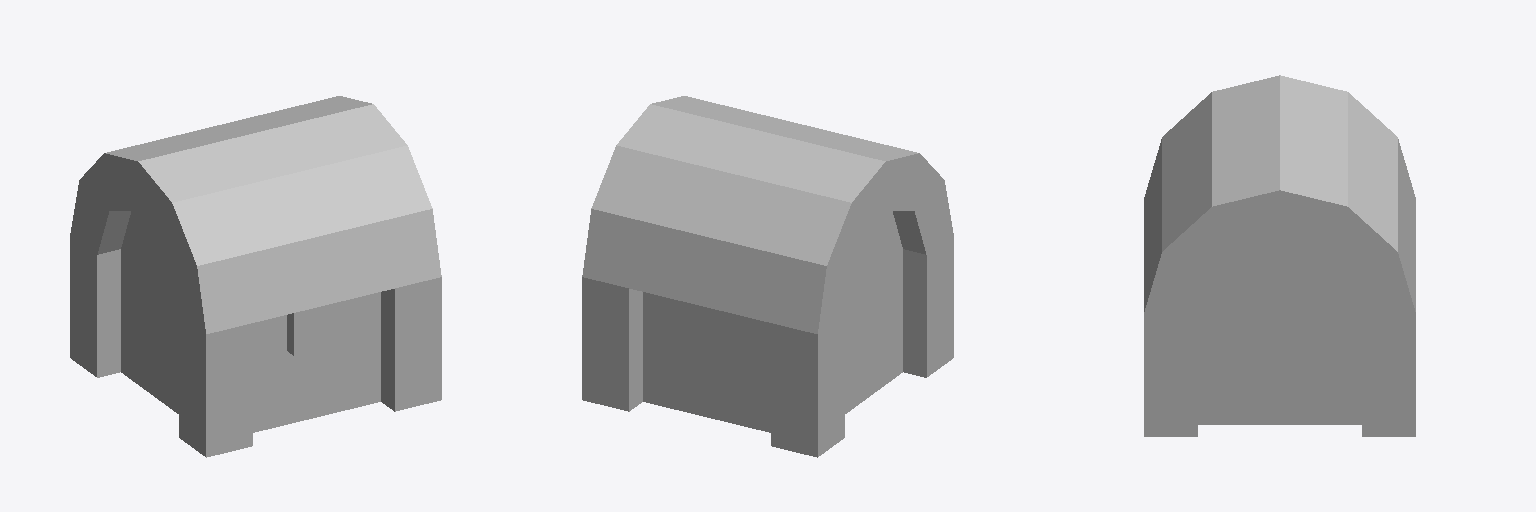
File: chest.obj
The picture shows the model from 3 angles: view 1: azimuth 30°, elevation 25°; view 2: azimuth 150°, elevation 25°; view 3: azimuth 270°, elevation 25°; orthographic projection.
Visible parts, largest first — view 1: lid, chest; view 2: lid, chest; view 3: lid, chest.
Boxes of the visible parts, box(x1,y1,x2,y2) form: lid: box(70, 96, 441, 333); chest: box(70, 235, 441, 457); lid: box(582, 96, 953, 333); chest: box(582, 235, 953, 457); lid: box(1144, 75, 1415, 312); chest: box(1144, 302, 1415, 436).
Size of the model in its own units: 0.5 by 0.5 by 0.5.